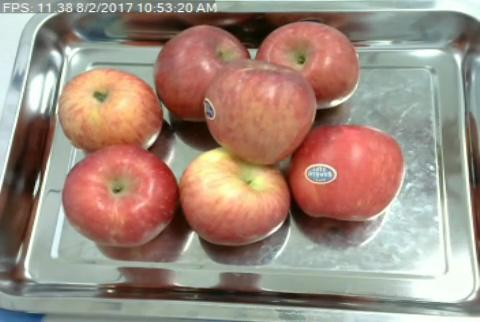apple: (205, 59, 316, 164), (62, 150, 179, 247), (291, 124, 405, 222), (181, 149, 291, 244), (58, 68, 161, 151), (256, 23, 359, 106), (157, 26, 248, 117)
